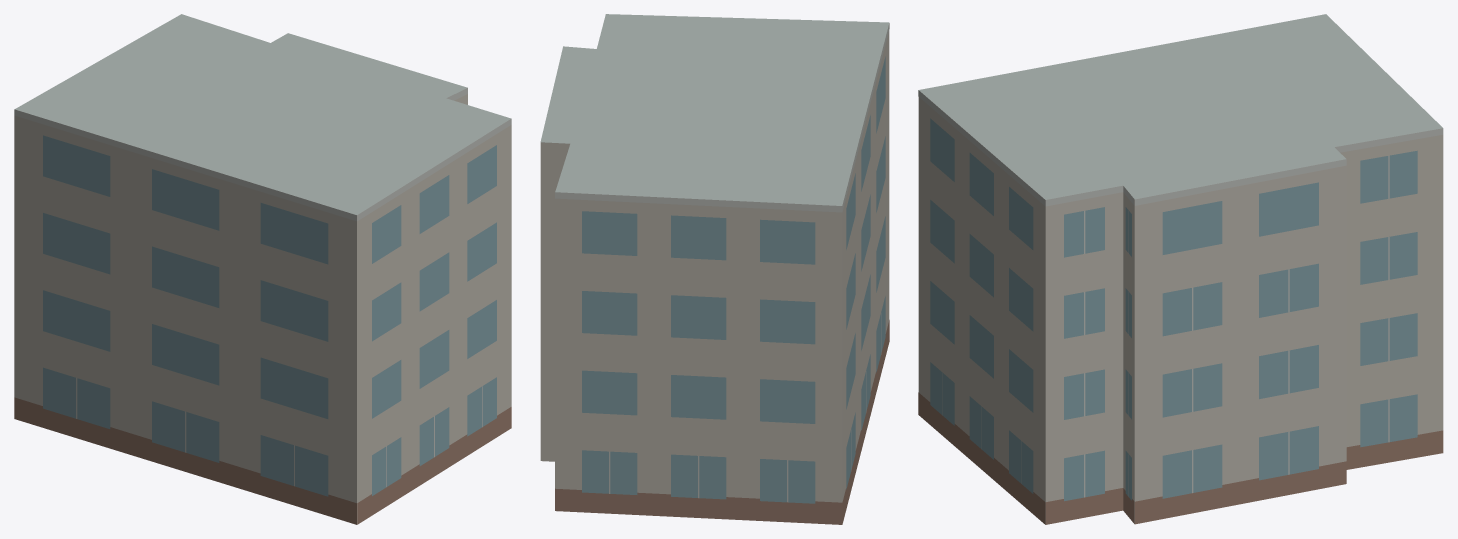
Rendered from survey-upis-32795204.glb.
The picture shows the model from 3 angles, left to right: view 1: azimuth 30°, elevation 25°; view 2: azimuth 150°, elevation 25°; view 3: azimuth 270°, elevation 25°; orthographic projection. The views are drawn at different scales.
Parts seen in each view (by area): view 1: survey-upis-32795204.tmp; view 2: survey-upis-32795204.tmp; view 3: survey-upis-32795204.tmp.
Boxes of the visible parts, box(x1,y1,x2,y2) form: survey-upis-32795204.tmp: box(14, 14, 511, 524); survey-upis-32795204.tmp: box(540, 14, 889, 524); survey-upis-32795204.tmp: box(918, 14, 1443, 524).
Size of the model in its own units: 14.99 by 12.2 by 17.88.
